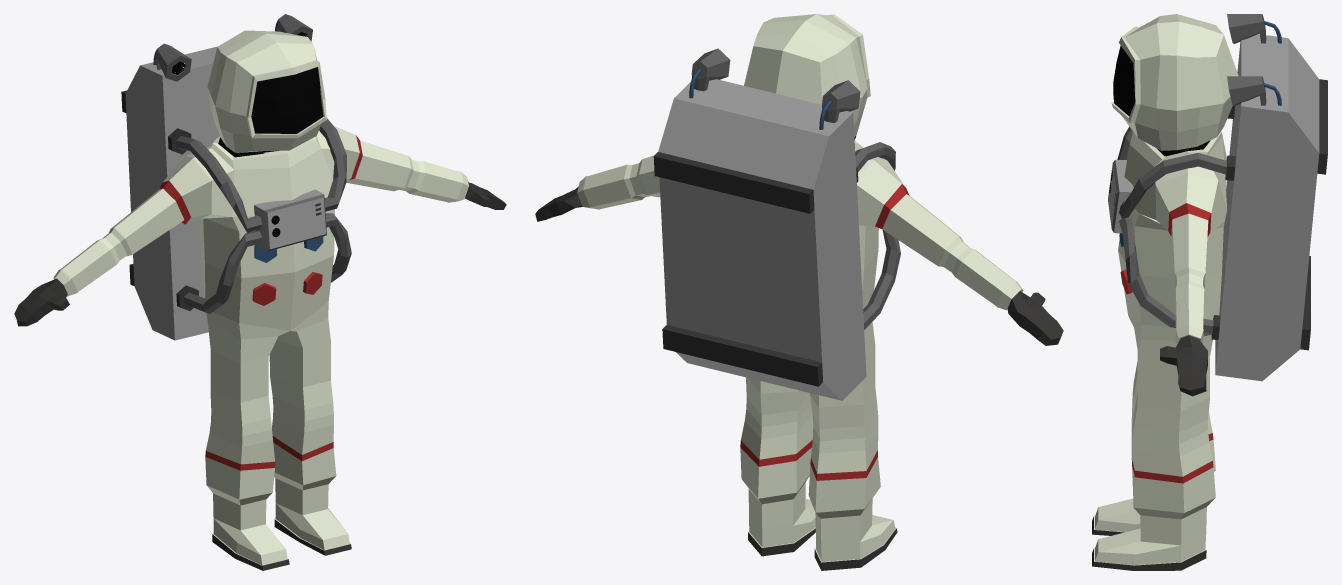
The model's file is astro2.obj.
The picture shows the model from 3 angles, left to right: view 1: azimuth 30°, elevation 25°; view 2: azimuth 150°, elevation 25°; view 3: azimuth 270°, elevation 25°; orthographic projection. The views are drawn at different scales.
Parts seen in each view (by area): view 1: Astronauta, Mochila, Lanternas; view 2: Mochila, Astronauta, Lanternas2, Lanternas; view 3: Astronauta, Mochila, Lanternas2, Lanternas.
Part boxes in pixels (bbox=[...]): Astronauta: bbox=[14, 30, 506, 570]; Mochila: bbox=[121, 46, 351, 340]; Lanternas: bbox=[153, 43, 191, 81]; Mochila: bbox=[653, 79, 900, 400]; Astronauta: bbox=[535, 14, 1063, 570]; Lanternas2: bbox=[689, 48, 730, 98]; Lanternas: bbox=[819, 80, 860, 129]; Astronauta: bbox=[1092, 14, 1238, 570]; Mochila: bbox=[1108, 34, 1327, 381]; Lanternas2: bbox=[1227, 76, 1281, 106]; Lanternas: bbox=[1227, 14, 1281, 43].
Size of the model in its own units: 1.42 by 1.39 by 0.5678.
Materials: 1 (1 with a texture image).
